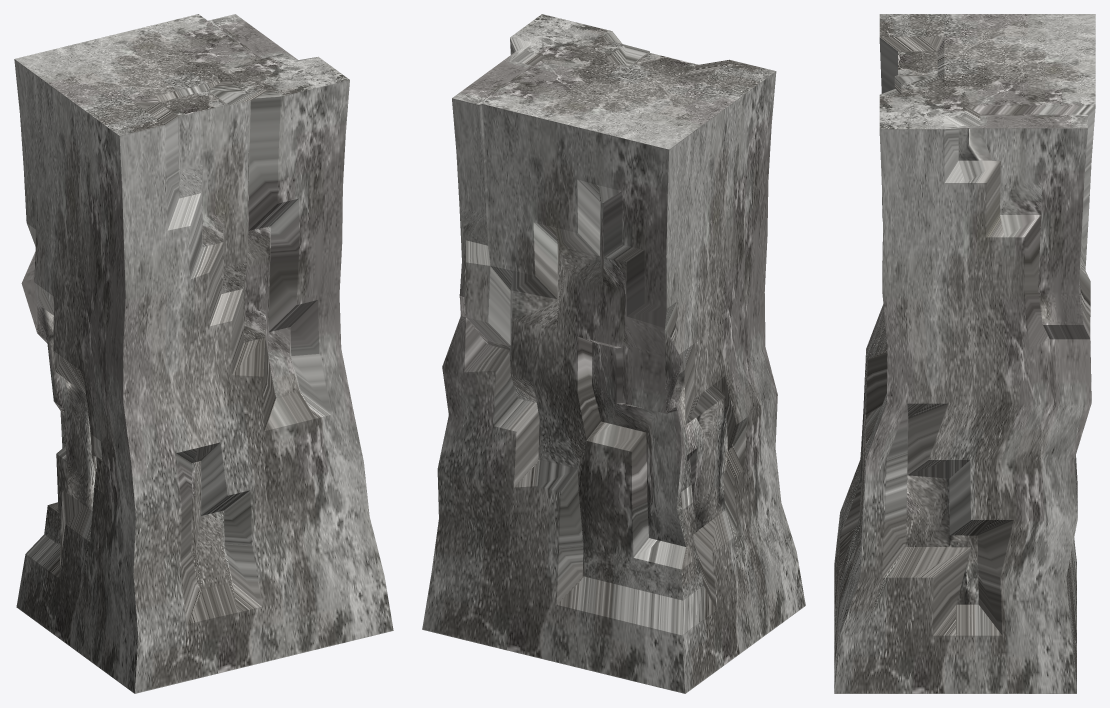
The model's file is stonehenge_gray_3.FBX.
3 views of the same model, side by side, from view 1: azimuth 30°, elevation 25°; view 2: azimuth 150°, elevation 25°; view 3: azimuth 270°, elevation 25° (orthographic). The views are drawn at different scales.
Parts seen in each view (by area): view 1: Box004; view 2: Box004; view 3: Box004.
Boxes of the visible parts, <box> form: Box004: <box>14,14,393,693</box>; Box004: <box>422,14,805,693</box>; Box004: <box>834,14,1095,693</box>.
Size of the model in its own units: 97.68 by 195 by 83.3.
Materials: 1 (1 with a texture image).
